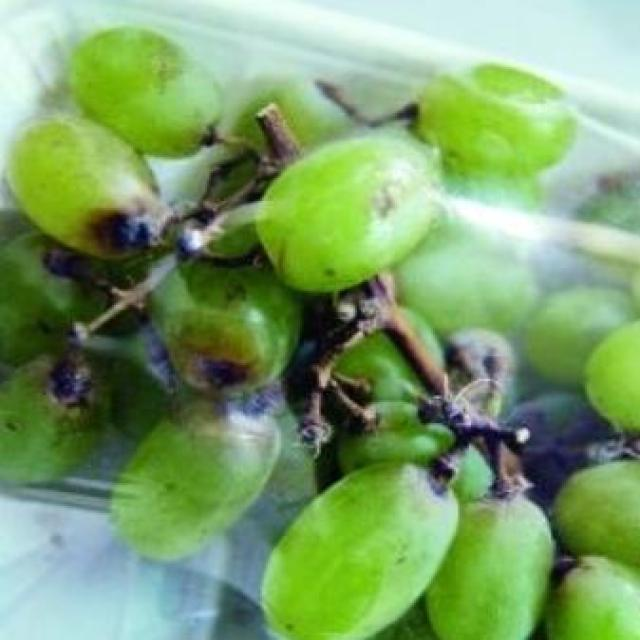Wet Waste: (0, 26, 638, 638)
